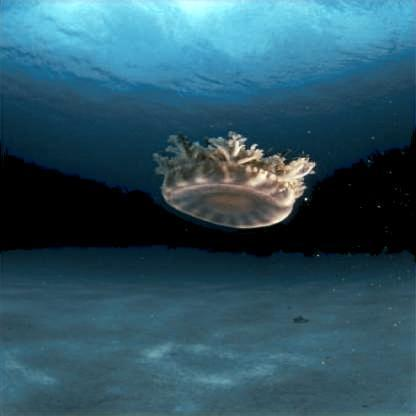Fish: (148, 134, 312, 230)
